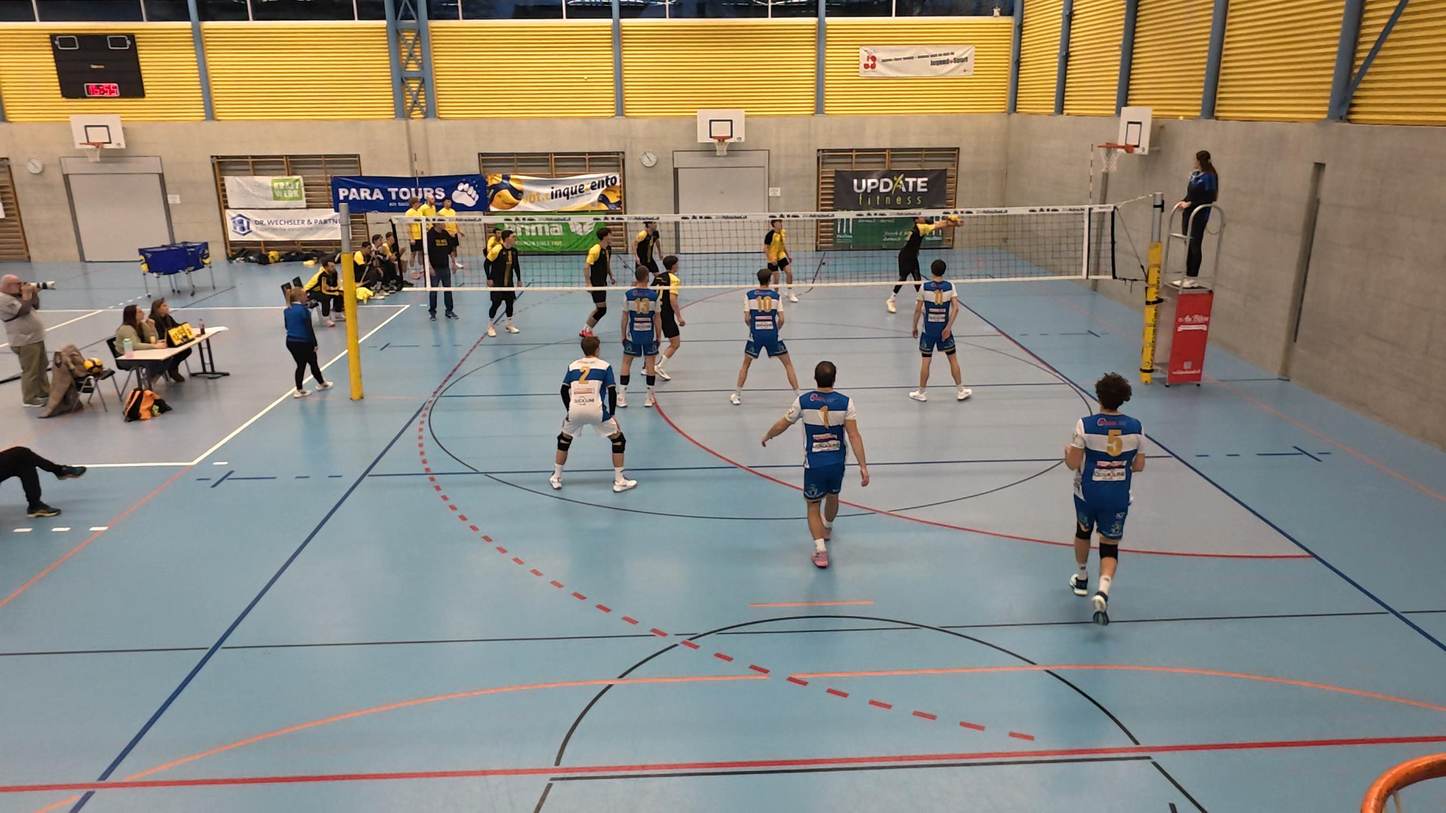Player: (760, 361, 869, 568), (1065, 374, 1145, 621), (549, 333, 636, 493), (728, 265, 801, 402), (911, 260, 971, 403), (616, 264, 664, 392), (576, 220, 618, 347), (477, 229, 524, 337), (650, 254, 685, 383), (764, 216, 801, 301), (632, 215, 663, 284)
Receive: (881, 205, 962, 319)
ball: (940, 208, 961, 231)
